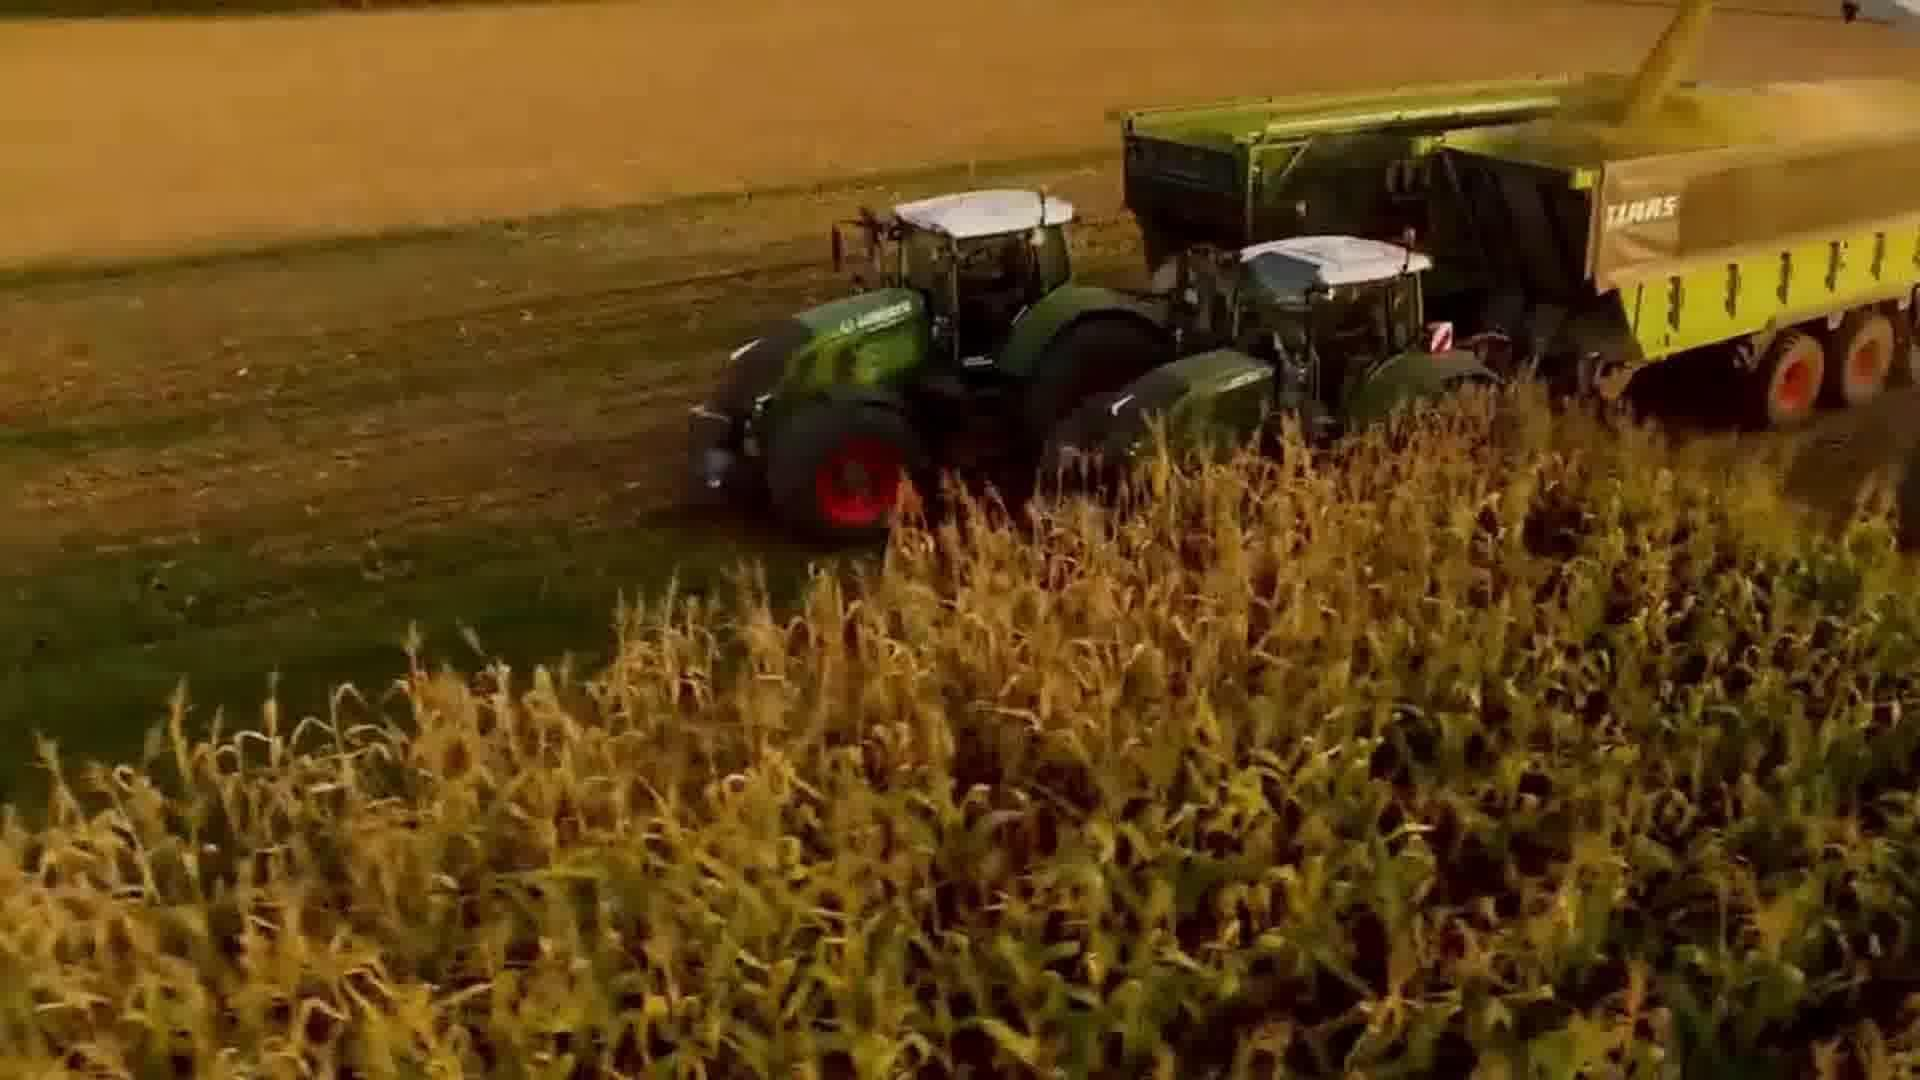tractor: (678, 175, 1182, 551), (1036, 227, 1510, 530)
trailer: (1415, 73, 1920, 430), (1101, 65, 1605, 274)
